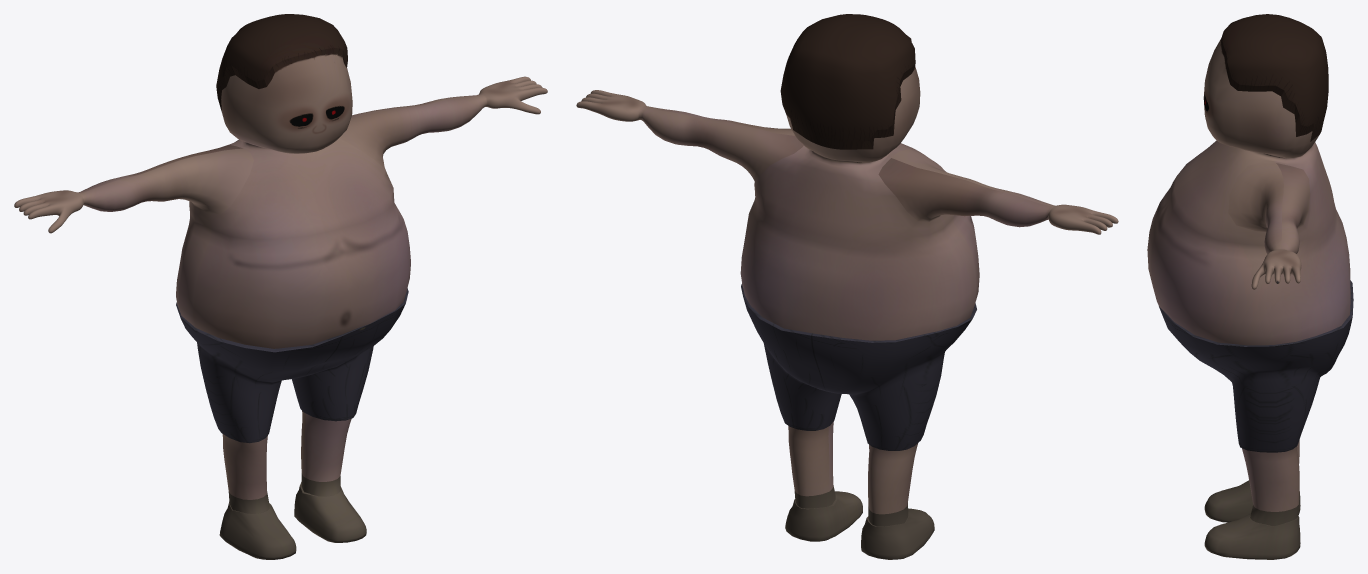
The model's file is enemy2.fbx.
The picture shows the model from 3 angles, left to right: view 1: azimuth 30°, elevation 25°; view 2: azimuth 150°, elevation 25°; view 3: azimuth 270°, elevation 25°; orthographic projection.
Visible parts, largest first — view 1: polySurface6; view 2: polySurface6; view 3: polySurface6.
Boxes of the visible parts, x1=… form: polySurface6: x1=14, y1=14, x2=547, y2=559; polySurface6: x1=576, y1=14, x2=1118, y2=559; polySurface6: x1=1147, y1=14, x2=1353, y2=559.
Bounding box in the file's own units: 22.9 × 21.37 × 7.88.
Materials: 1 (1 with a texture image).
